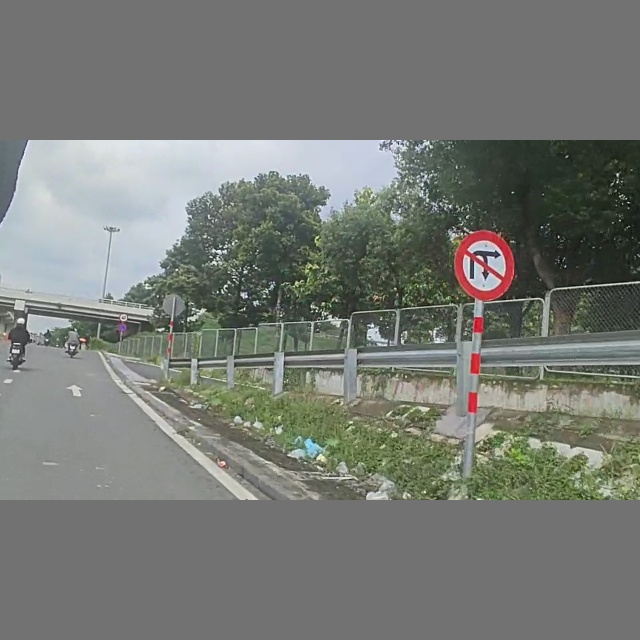P.124d: (455, 231, 515, 301)
P.127*40: (119, 313, 129, 322)
P.130: (118, 323, 127, 332)
